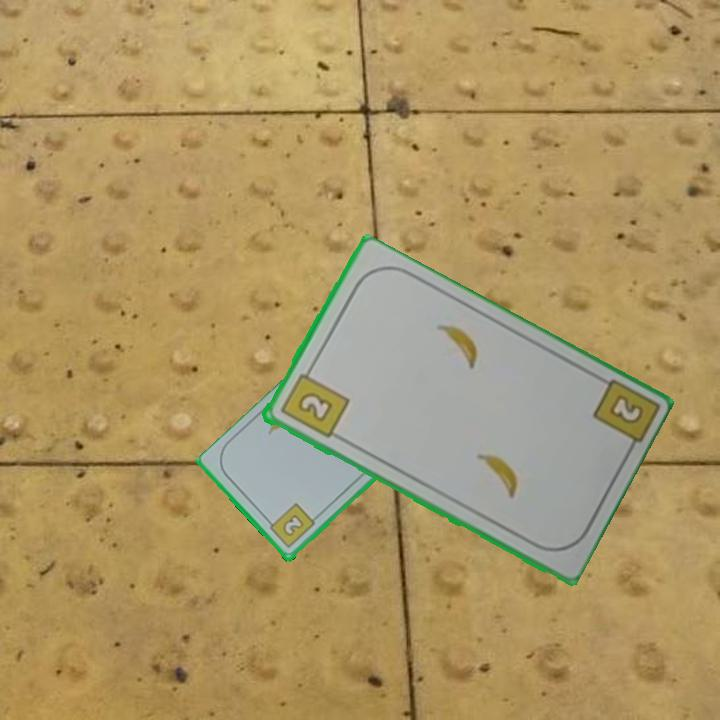2b: (276, 363, 351, 441), (263, 500, 318, 551), (604, 391, 646, 428)
